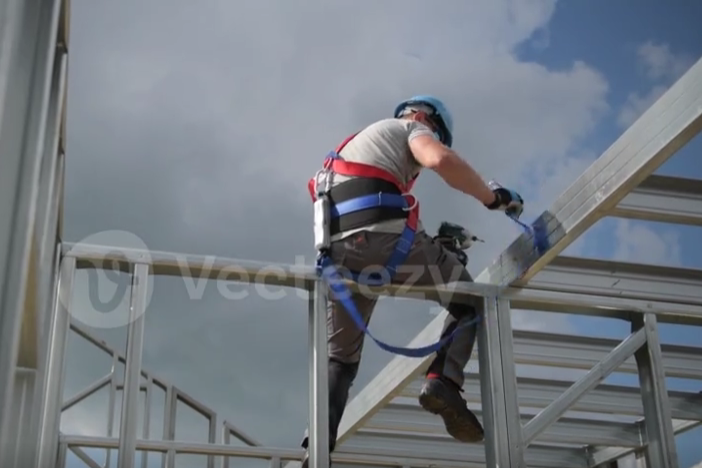safety_helmet: (393, 94, 454, 148)
